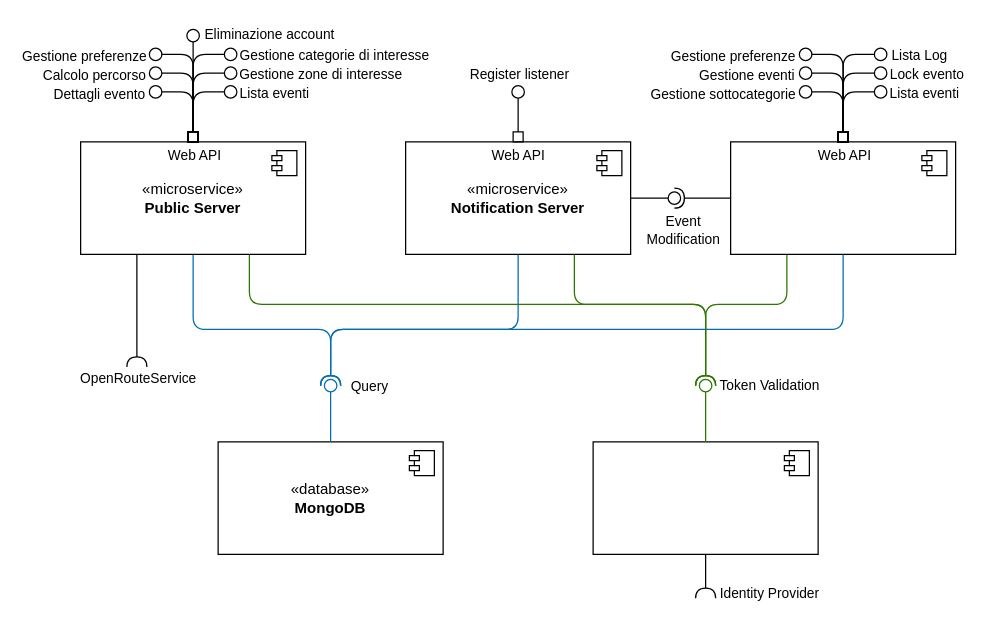
Some shapes in this 985 by 626 pixel diagram are drawn without their labels. The shapes that lost their labels are listed below. From the top down, each one's centre as x and y in pixels, then its label:
At point 842,197: "«microservice» Management Server".
At point 705,497: "«lib» Authentication SDK".
